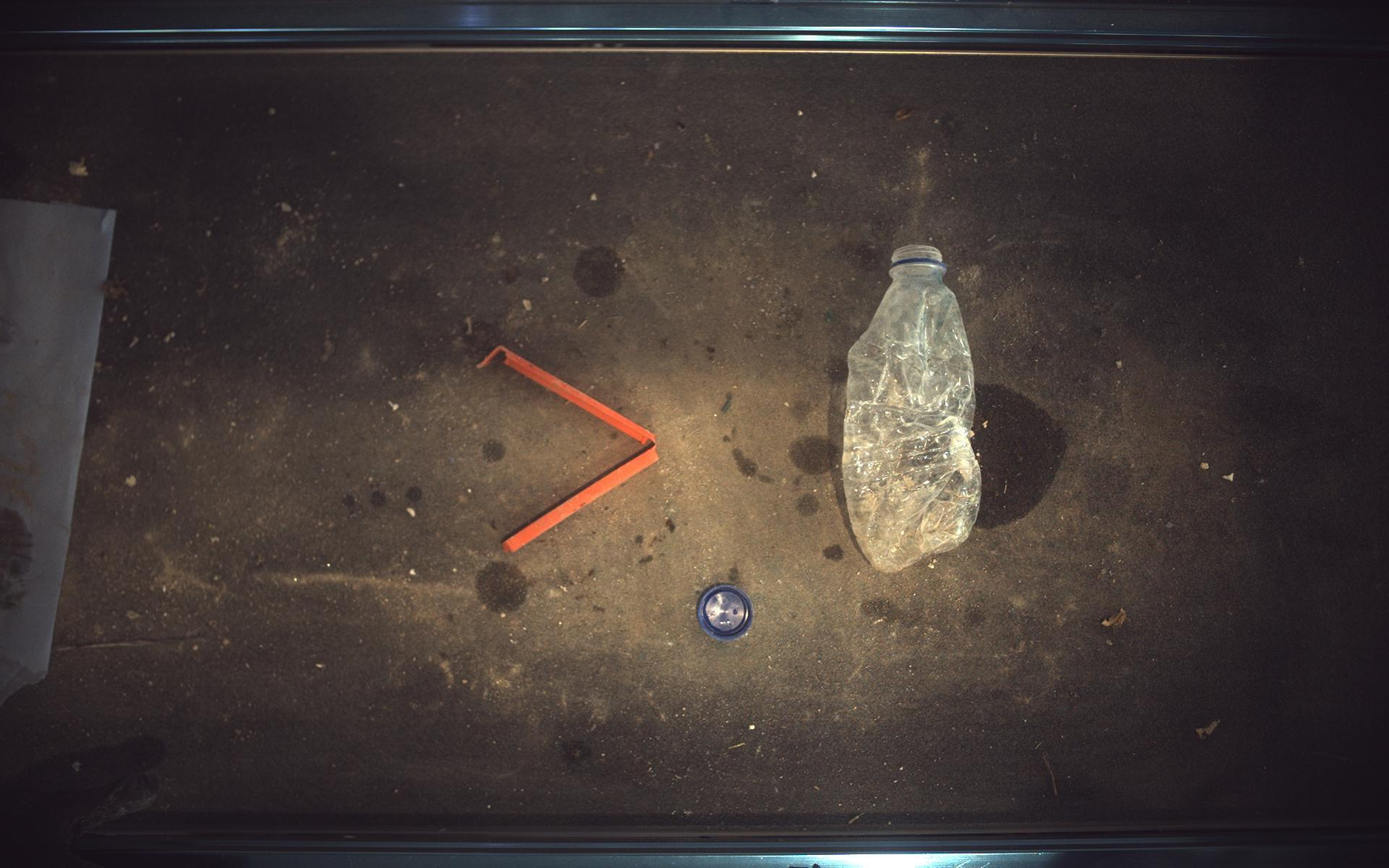general_w: (843, 244, 983, 572), (477, 345, 659, 552), (698, 584, 755, 642)
